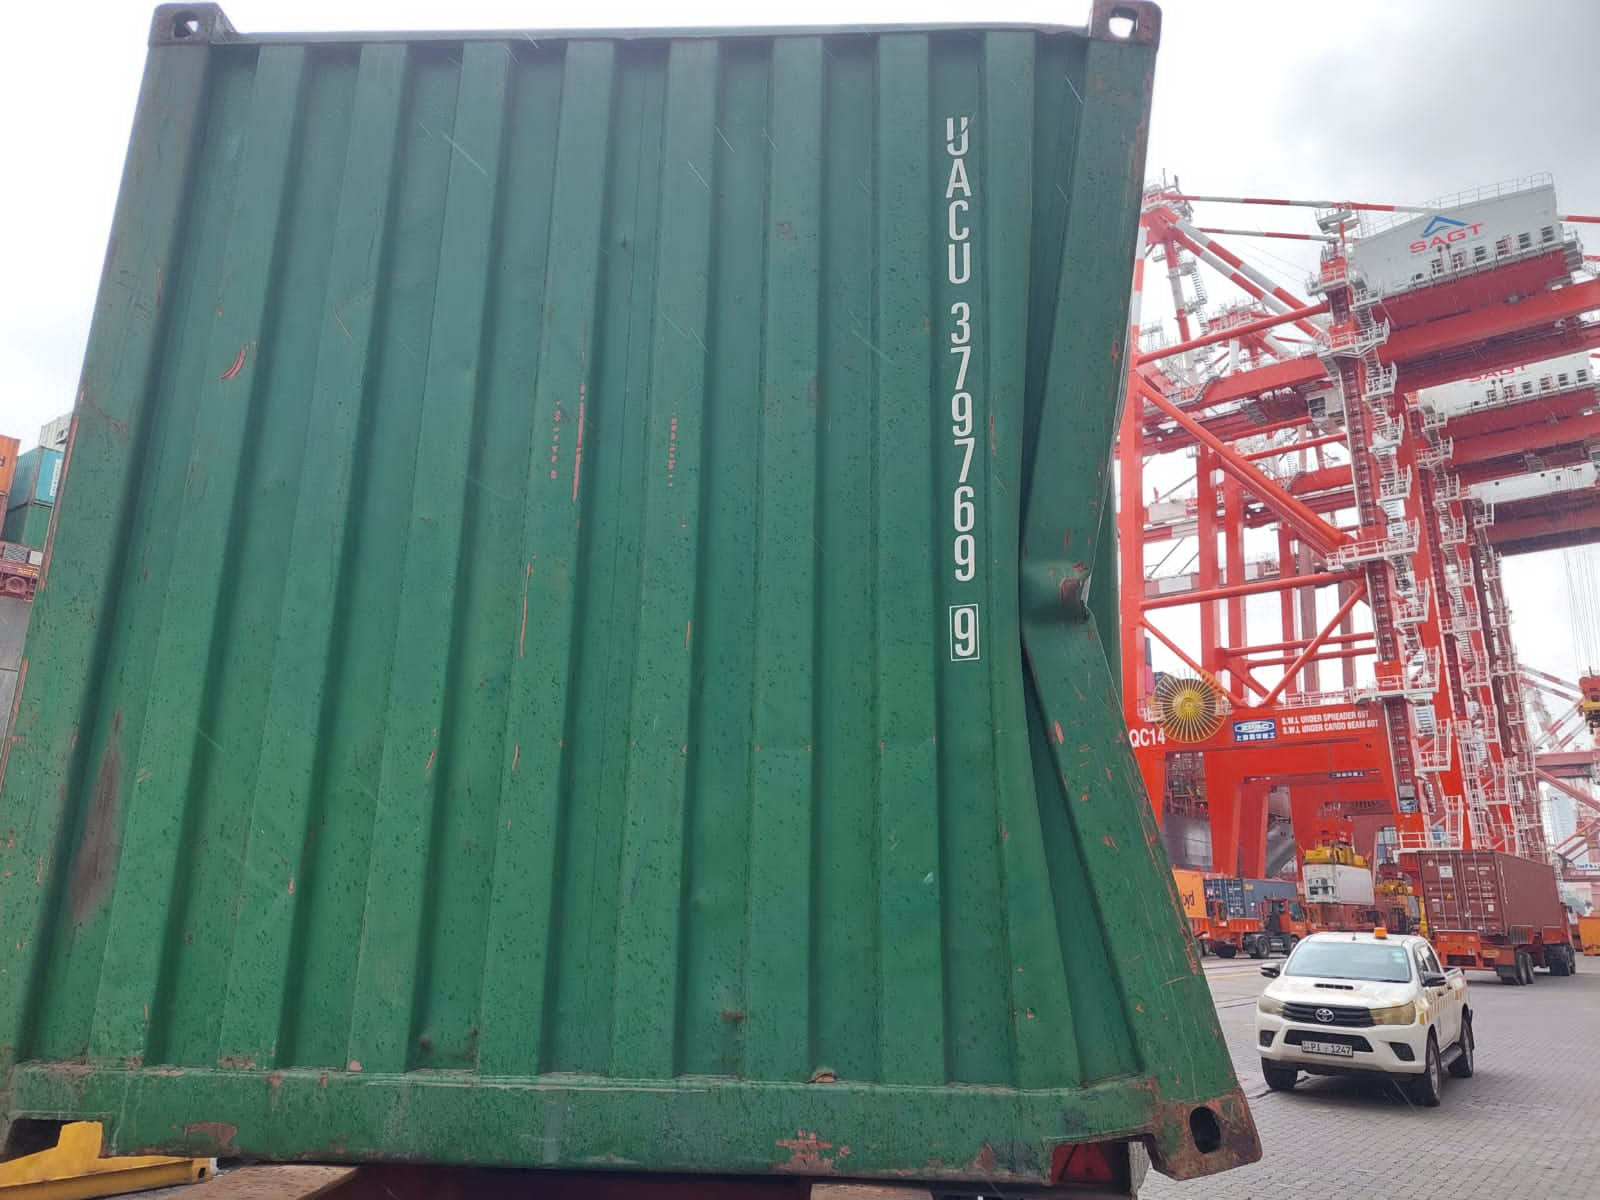dented: (954, 127, 1141, 918)
